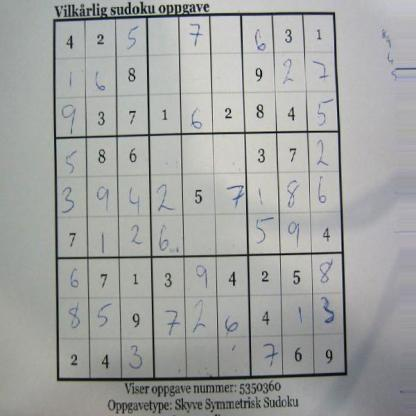sudoku: (51, 11, 352, 382)
